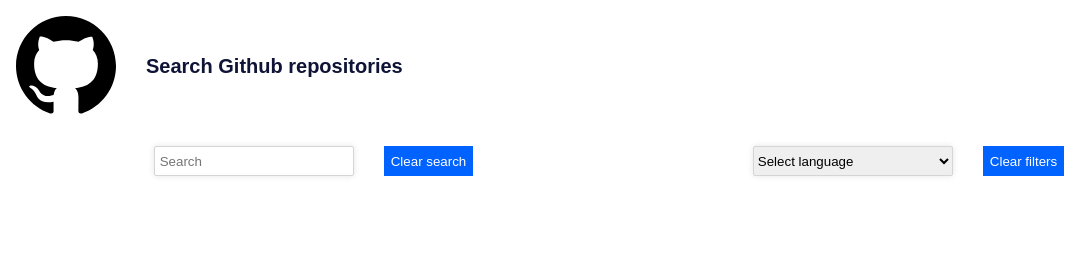
it: Typing in input displays loading message
Type "react" into the field with test id "search-input". click: x=254, y=161
box: [154, 146, 354, 176]
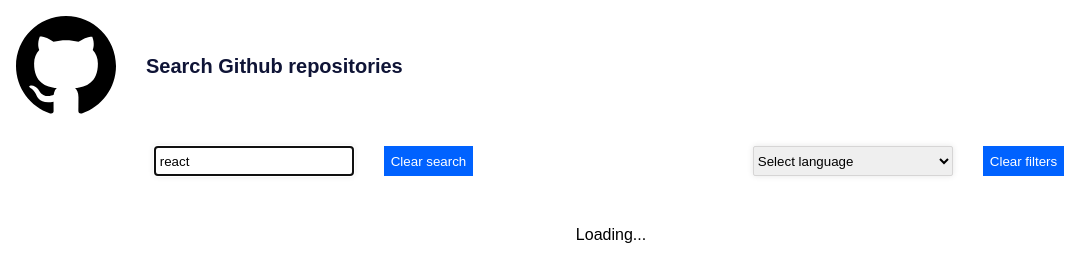
Expected: the text "Loading..." is shown, [576, 226, 646, 243]
